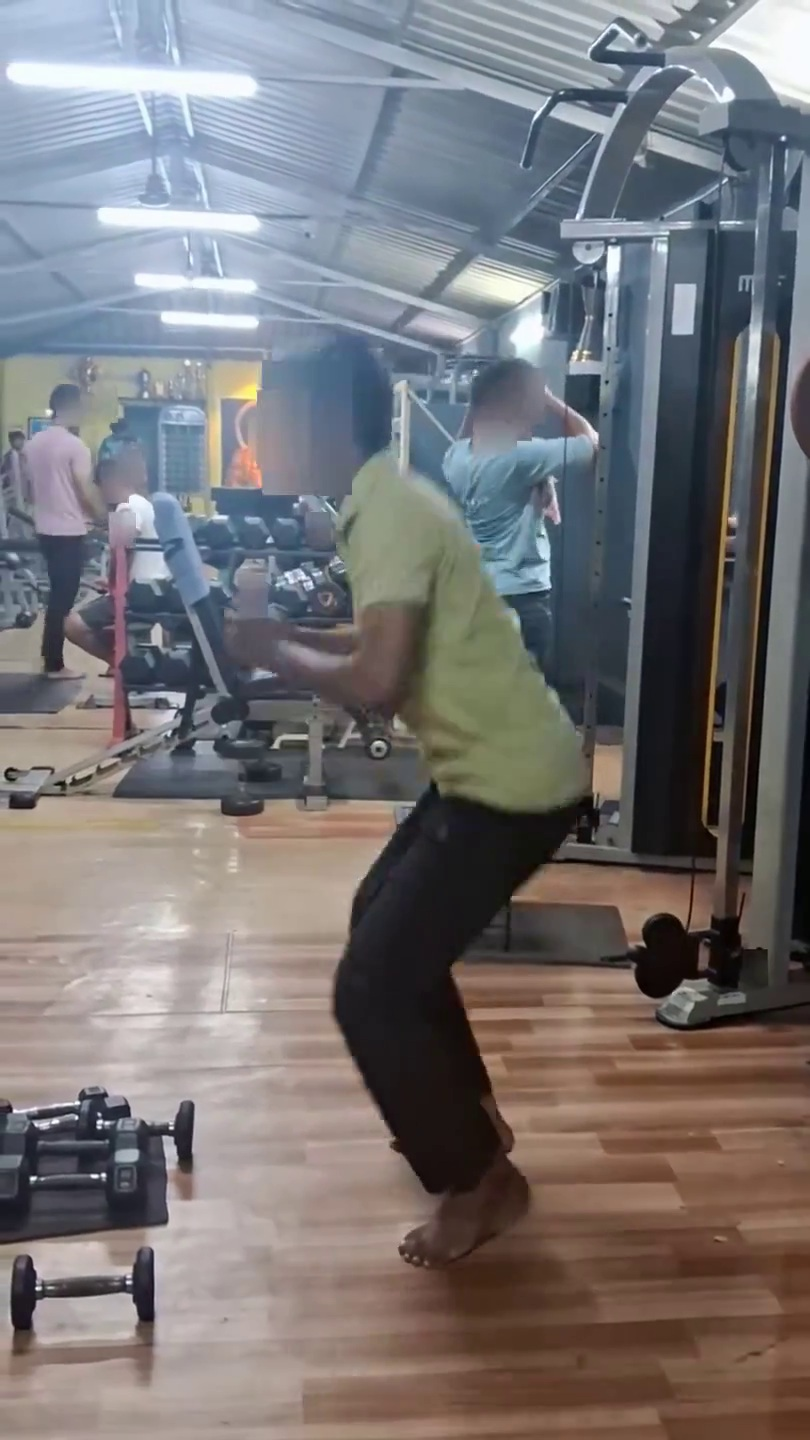squat_incorrect: (167, 327, 731, 1332)
